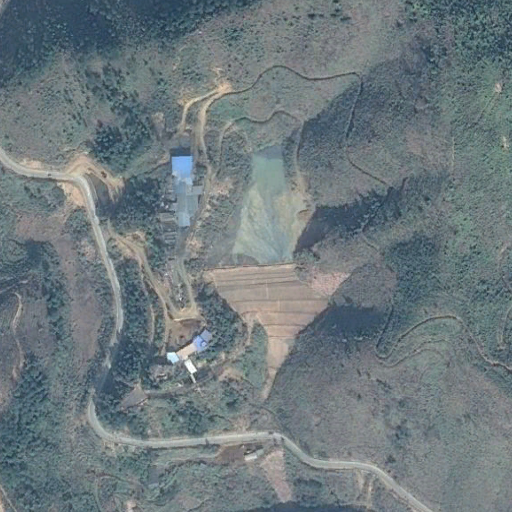tp: (199, 135, 353, 403)
